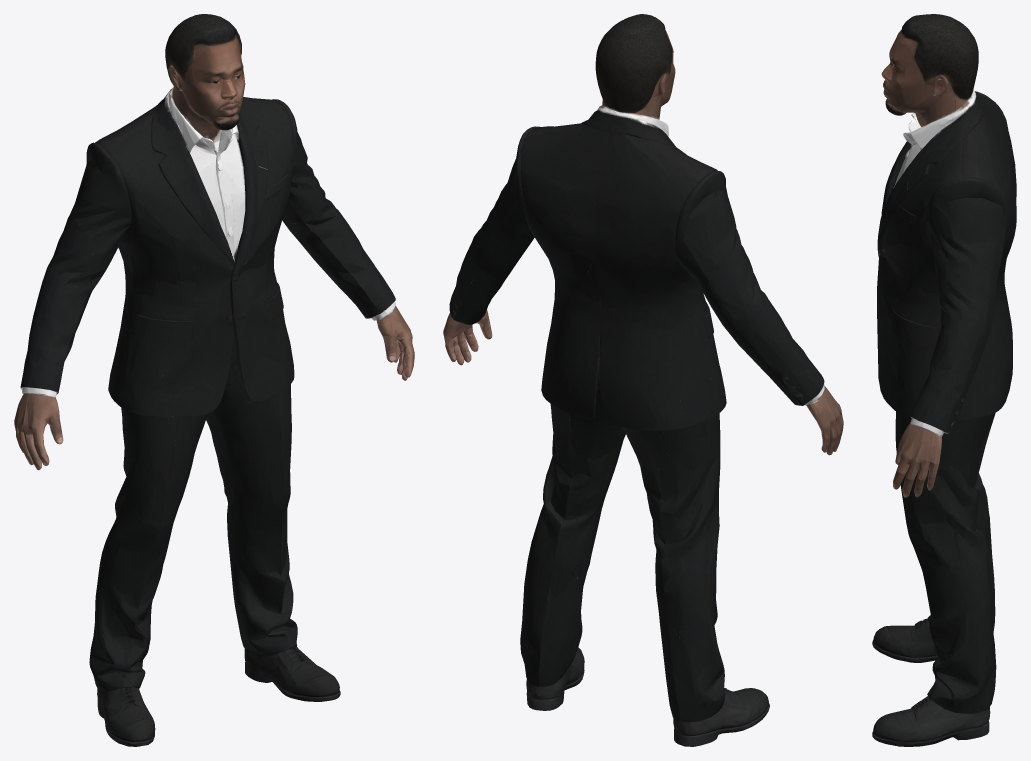
The model's file is player.glb.
The picture shows the model from 3 angles, left to right: view 1: azimuth 30°, elevation 25°; view 2: azimuth 150°, elevation 25°; view 3: azimuth 270°, elevation 25°; orthographic projection.
Visible parts, largest first — view 1: Mesh_0; view 2: Mesh_0; view 3: Mesh_0.
Part boxes in pixels (box(x1,y1,x2,y2)): Mesh_0: box(14, 14, 414, 746); Mesh_0: box(443, 14, 843, 746); Mesh_0: box(872, 14, 1016, 746).
Size of the model in its own units: 1.13 by 1.9 by 0.3671.
Materials: 1 (1 with a texture image).
